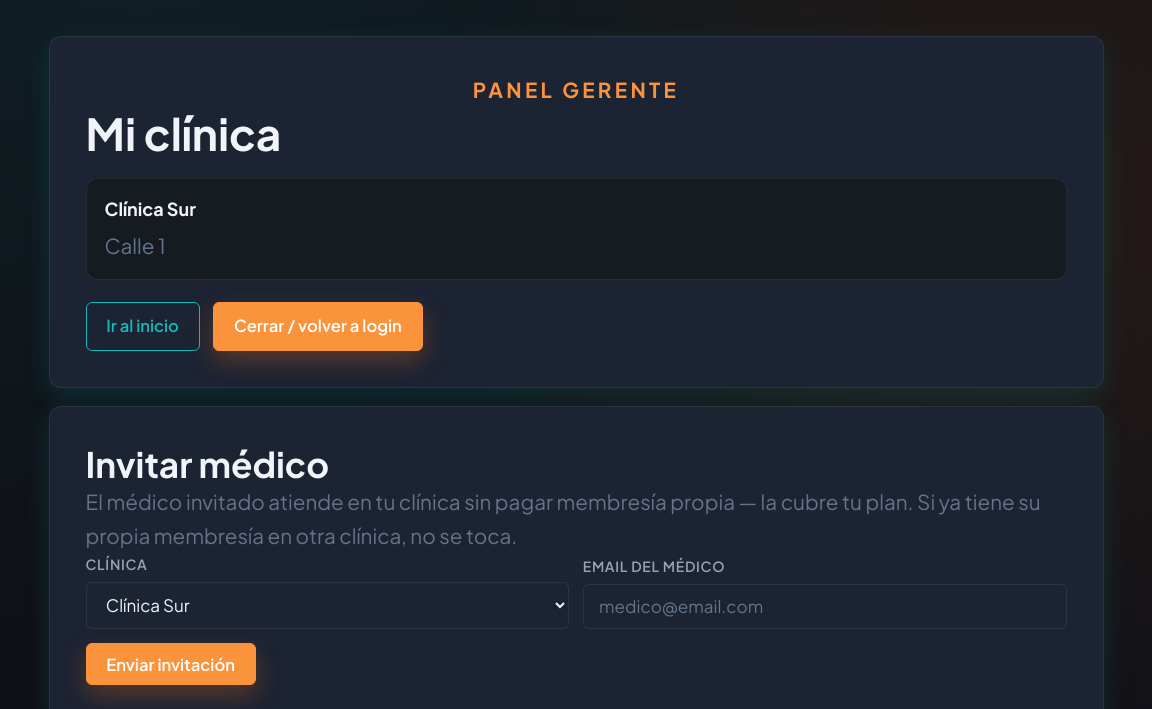
it: PanelGerentePage › muestra el error al invitar
Step 1. Type "nuevo@x.com" into the field labelled "Email del médico" → [825, 606], box [583,584,1067,629]
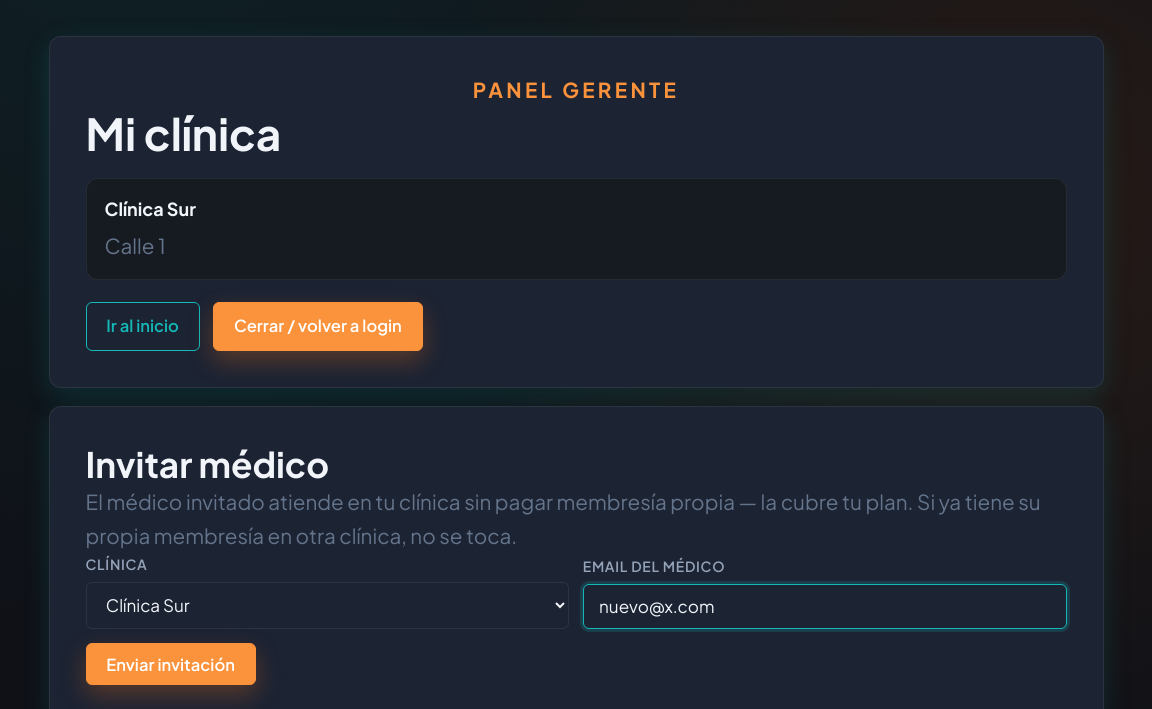
Step 2. Click the button "Enviar invitación" → [171, 664], box [86,643,256,686]
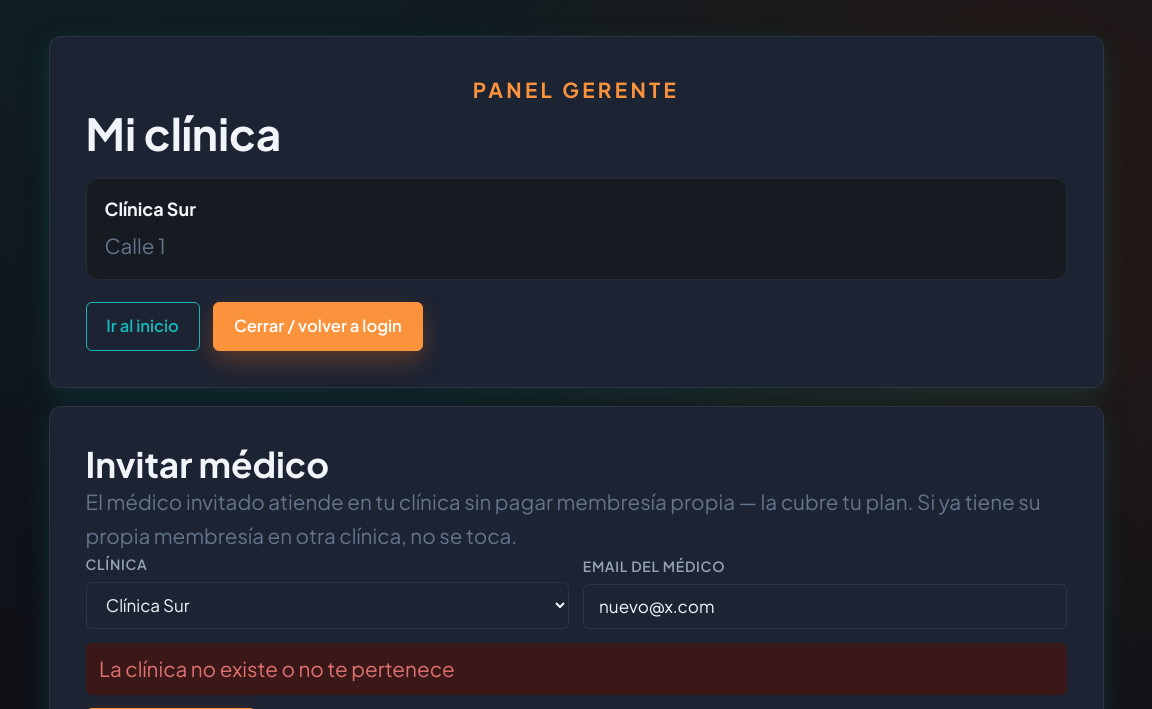
Expected: the text "La clínica no existe o no te pertenece" is shown, [86,643,1066,695]
